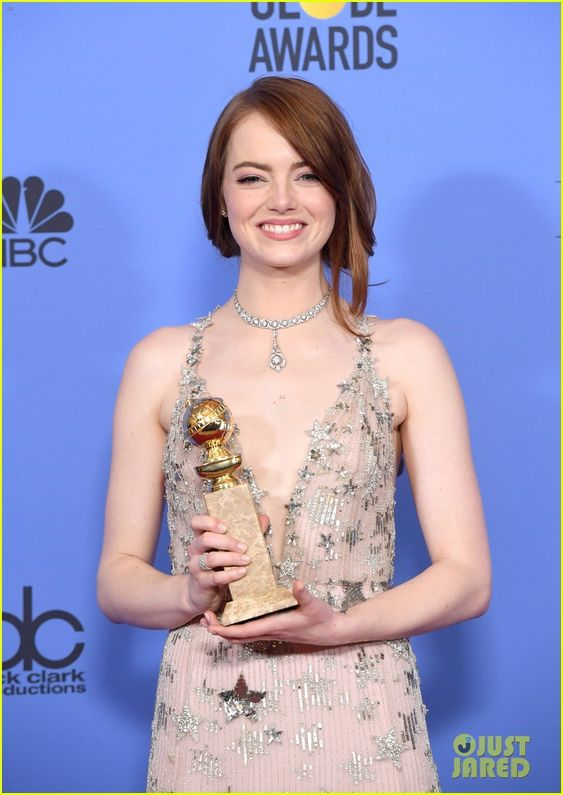hand: (180, 524, 256, 602)
